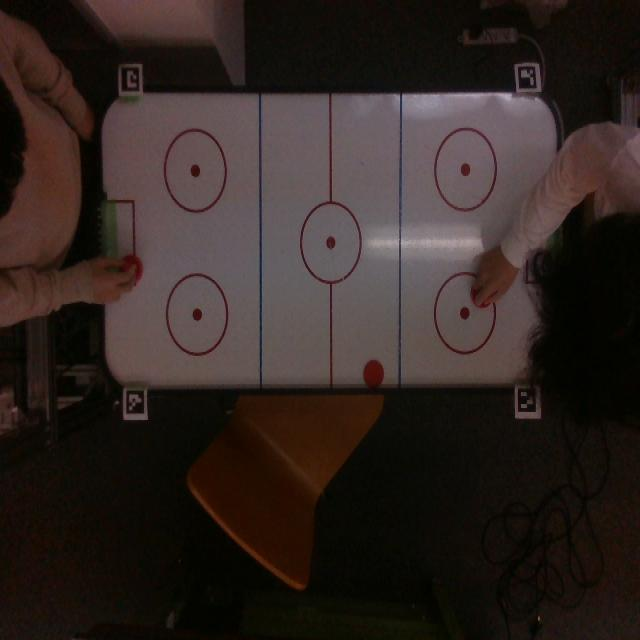puck: (363, 359, 384, 387)
